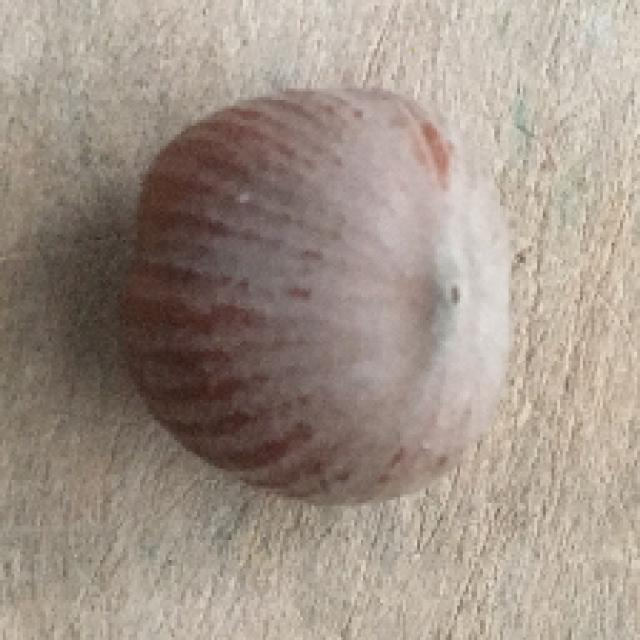QualityHazelnut: (119, 79, 522, 509)
